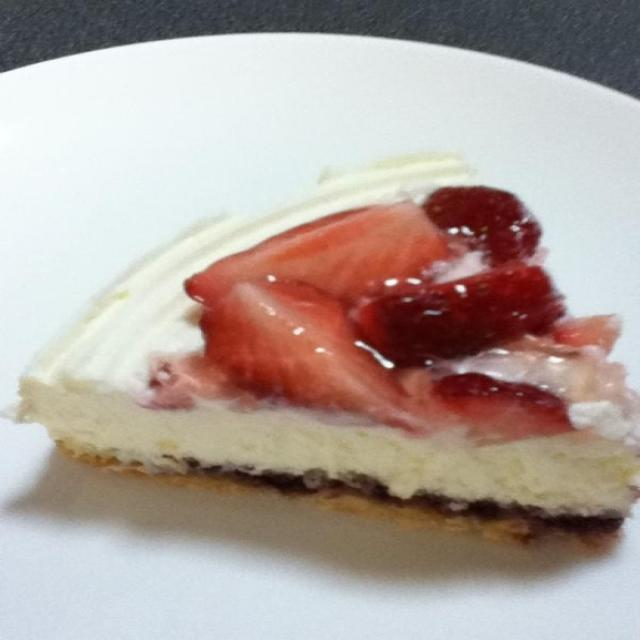猪肉菜式: (32, 250, 640, 464)
